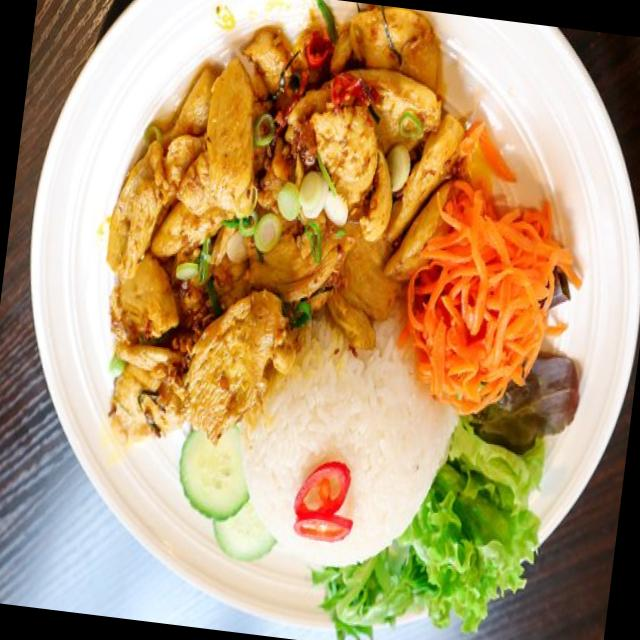ca rot: (406, 181, 580, 414)
dua leo: (179, 428, 276, 561)
ot: (293, 461, 353, 542)
rau: (312, 418, 544, 640)
thit chien: (107, 10, 480, 443)
